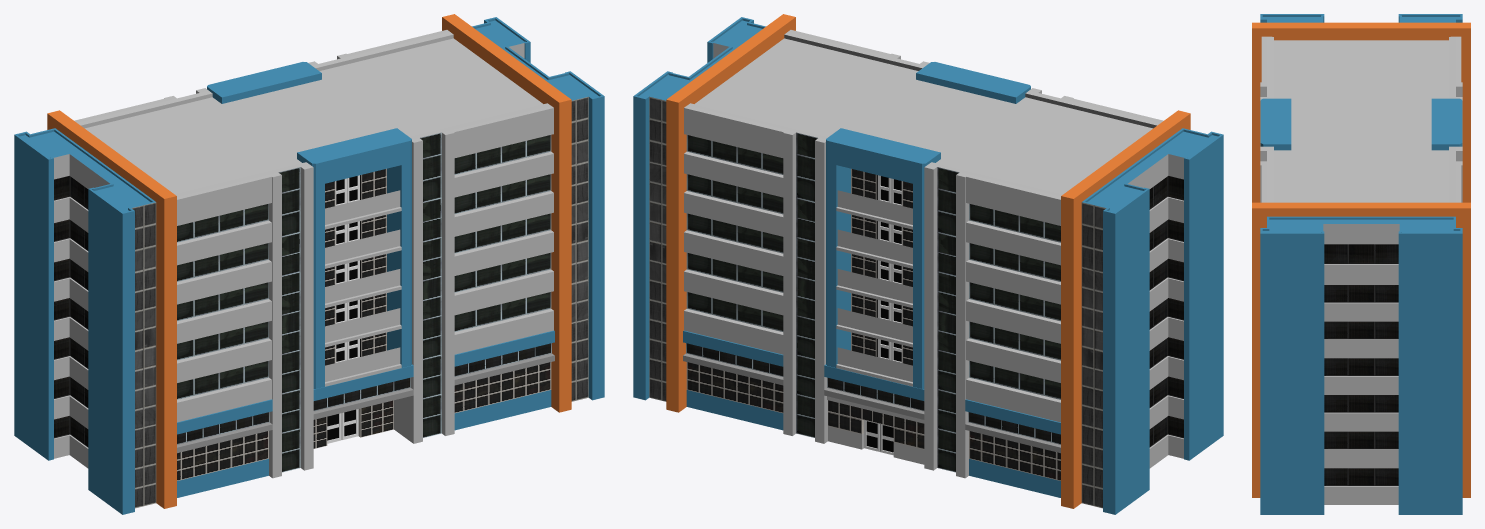
3 views of the same model, side by side, from view 1: azimuth 30°, elevation 25°; view 2: azimuth 150°, elevation 25°; view 3: azimuth 270°, elevation 25° (orthographic). The views are drawn at different scales.
Visible parts, largest first — view 1: Building; view 2: Building; view 3: Building.
Boxes of the visible parts, x1,y1,x2,y2 form: Building: (14,14,604,514); Building: (633,14,1223,514); Building: (1252,14,1470,514).
Size of what is drawn, in the model's own units: 38.54 by 23.68 by 16.21.
